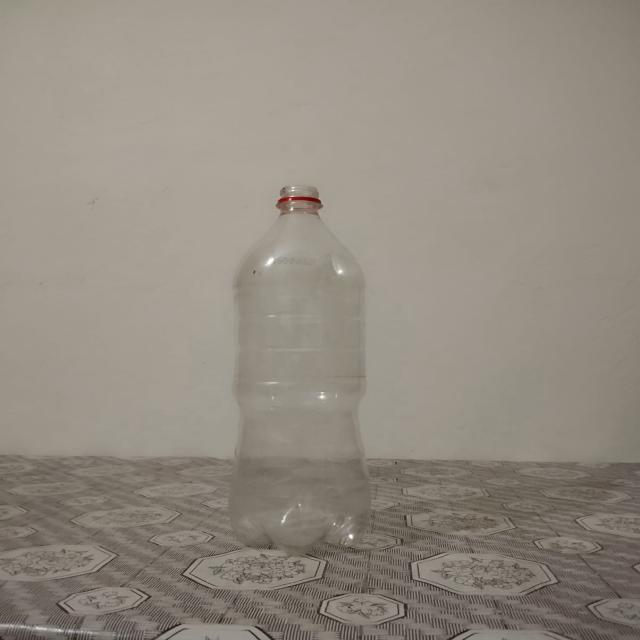bottle: (229, 181, 372, 557)
